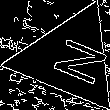N_NW: (35, 30, 103, 87)
